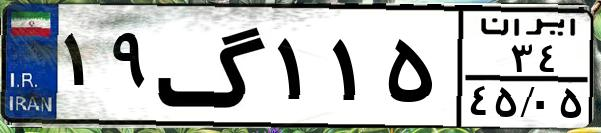0: (535, 70, 560, 125)
1: (270, 28, 330, 110), (330, 28, 385, 110), (57, 26, 110, 100)
3: (508, 27, 537, 80)
4: (537, 27, 568, 80), (470, 70, 495, 125)
5: (385, 28, 445, 110), (560, 70, 590, 125), (495, 70, 520, 125)
9: (110, 28, 156, 98)
گ: (156, 12, 270, 120)
